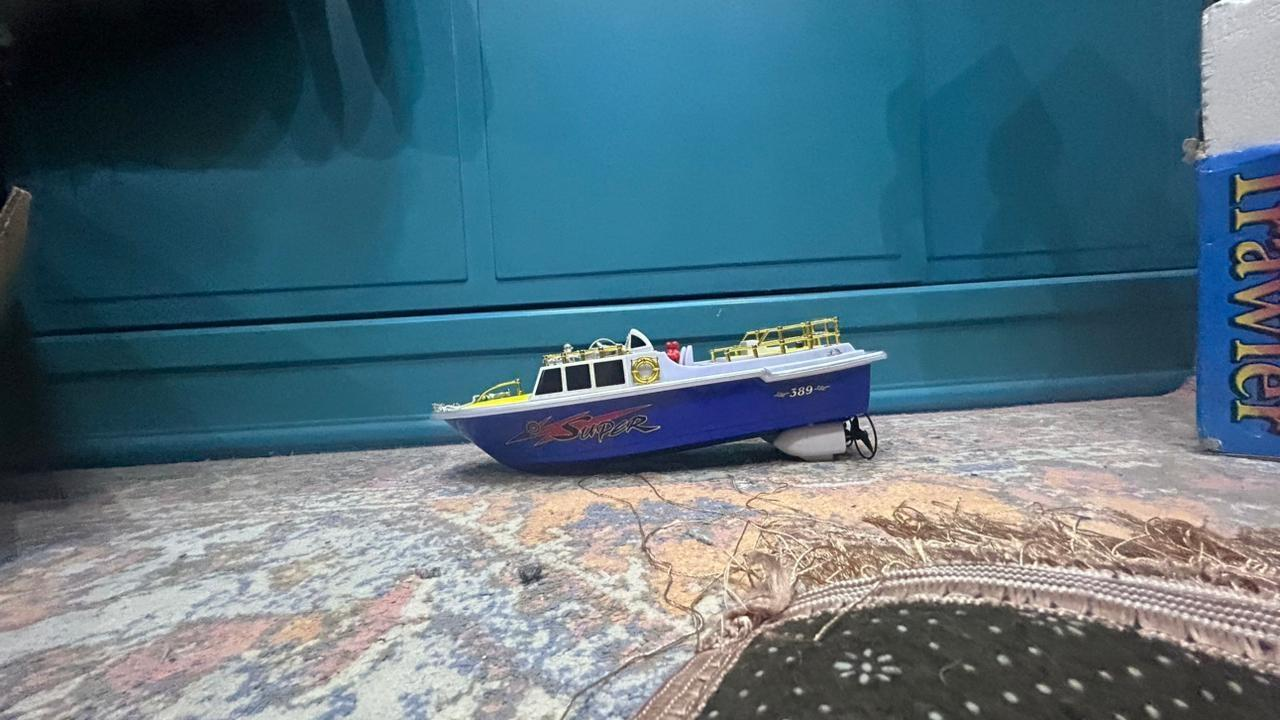Boat: (425, 313, 906, 480)
